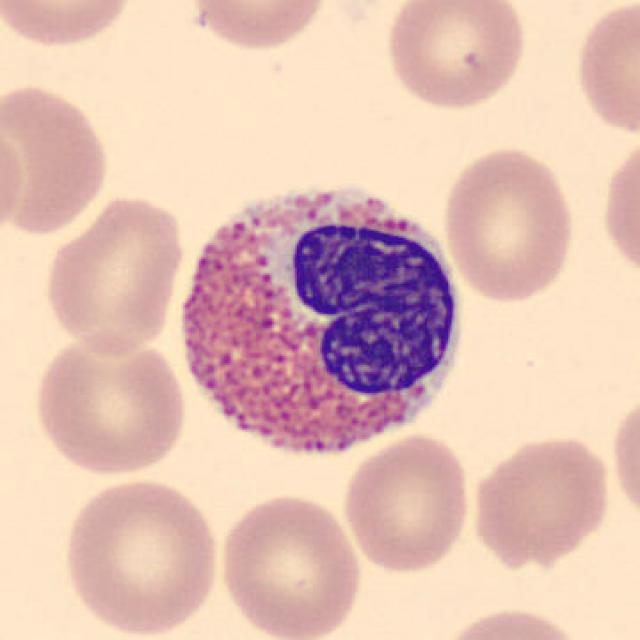Eosinophil: (162, 162, 476, 487)
RBC: (57, 474, 224, 638), (39, 190, 189, 358), (28, 332, 190, 479), (439, 143, 580, 305), (215, 490, 366, 640), (468, 430, 614, 570), (340, 430, 474, 577), (0, 76, 116, 238), (381, 0, 532, 113), (571, 0, 638, 141), (180, 0, 332, 53), (0, 0, 140, 51), (597, 130, 640, 288), (435, 604, 586, 640), (606, 390, 640, 529), (0, 116, 28, 244)
